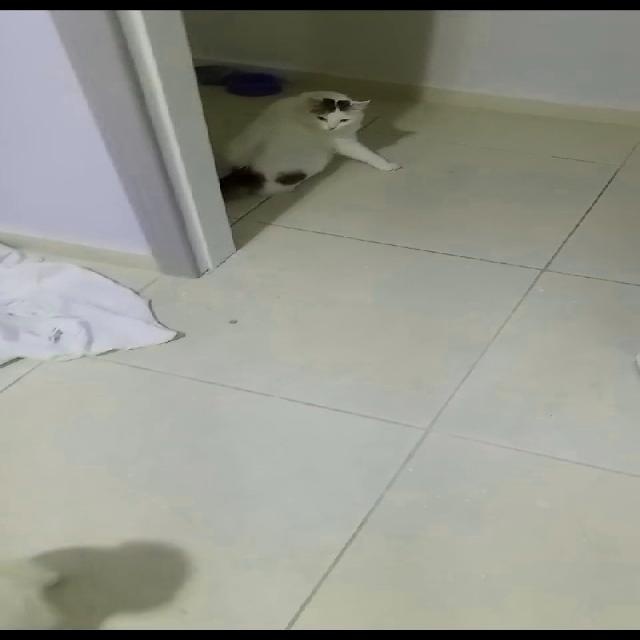Simba: (223, 74, 412, 229)
